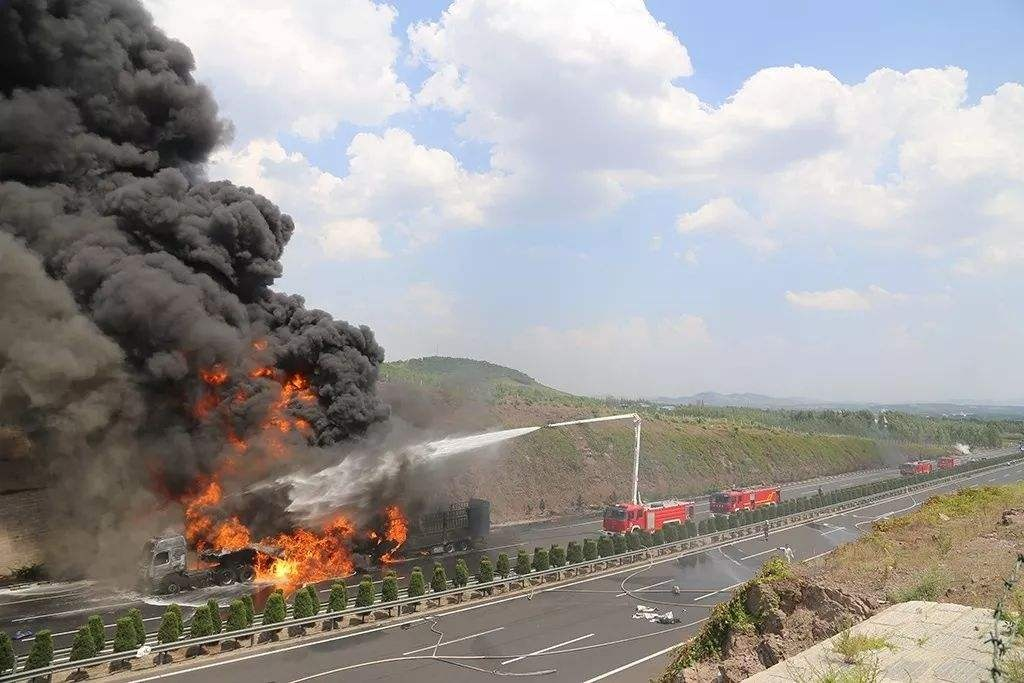fire: (191, 334, 408, 590)
